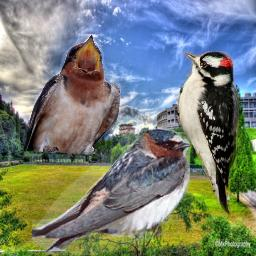Swallow: (32, 128, 190, 255), (24, 34, 121, 163)
Woodpecker: (174, 51, 239, 216)
